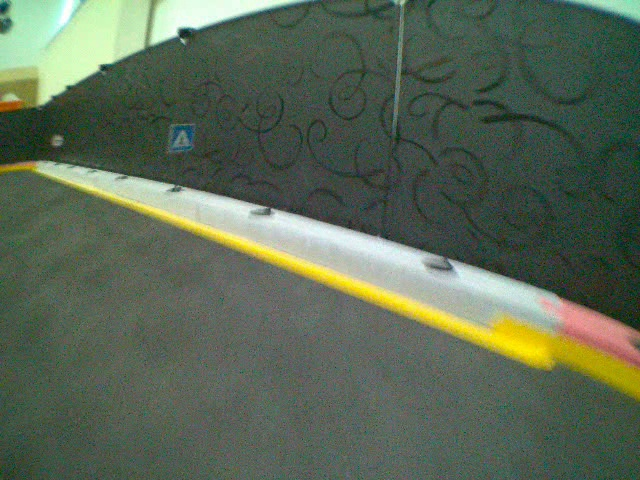crossing: (170, 122, 193, 153)
